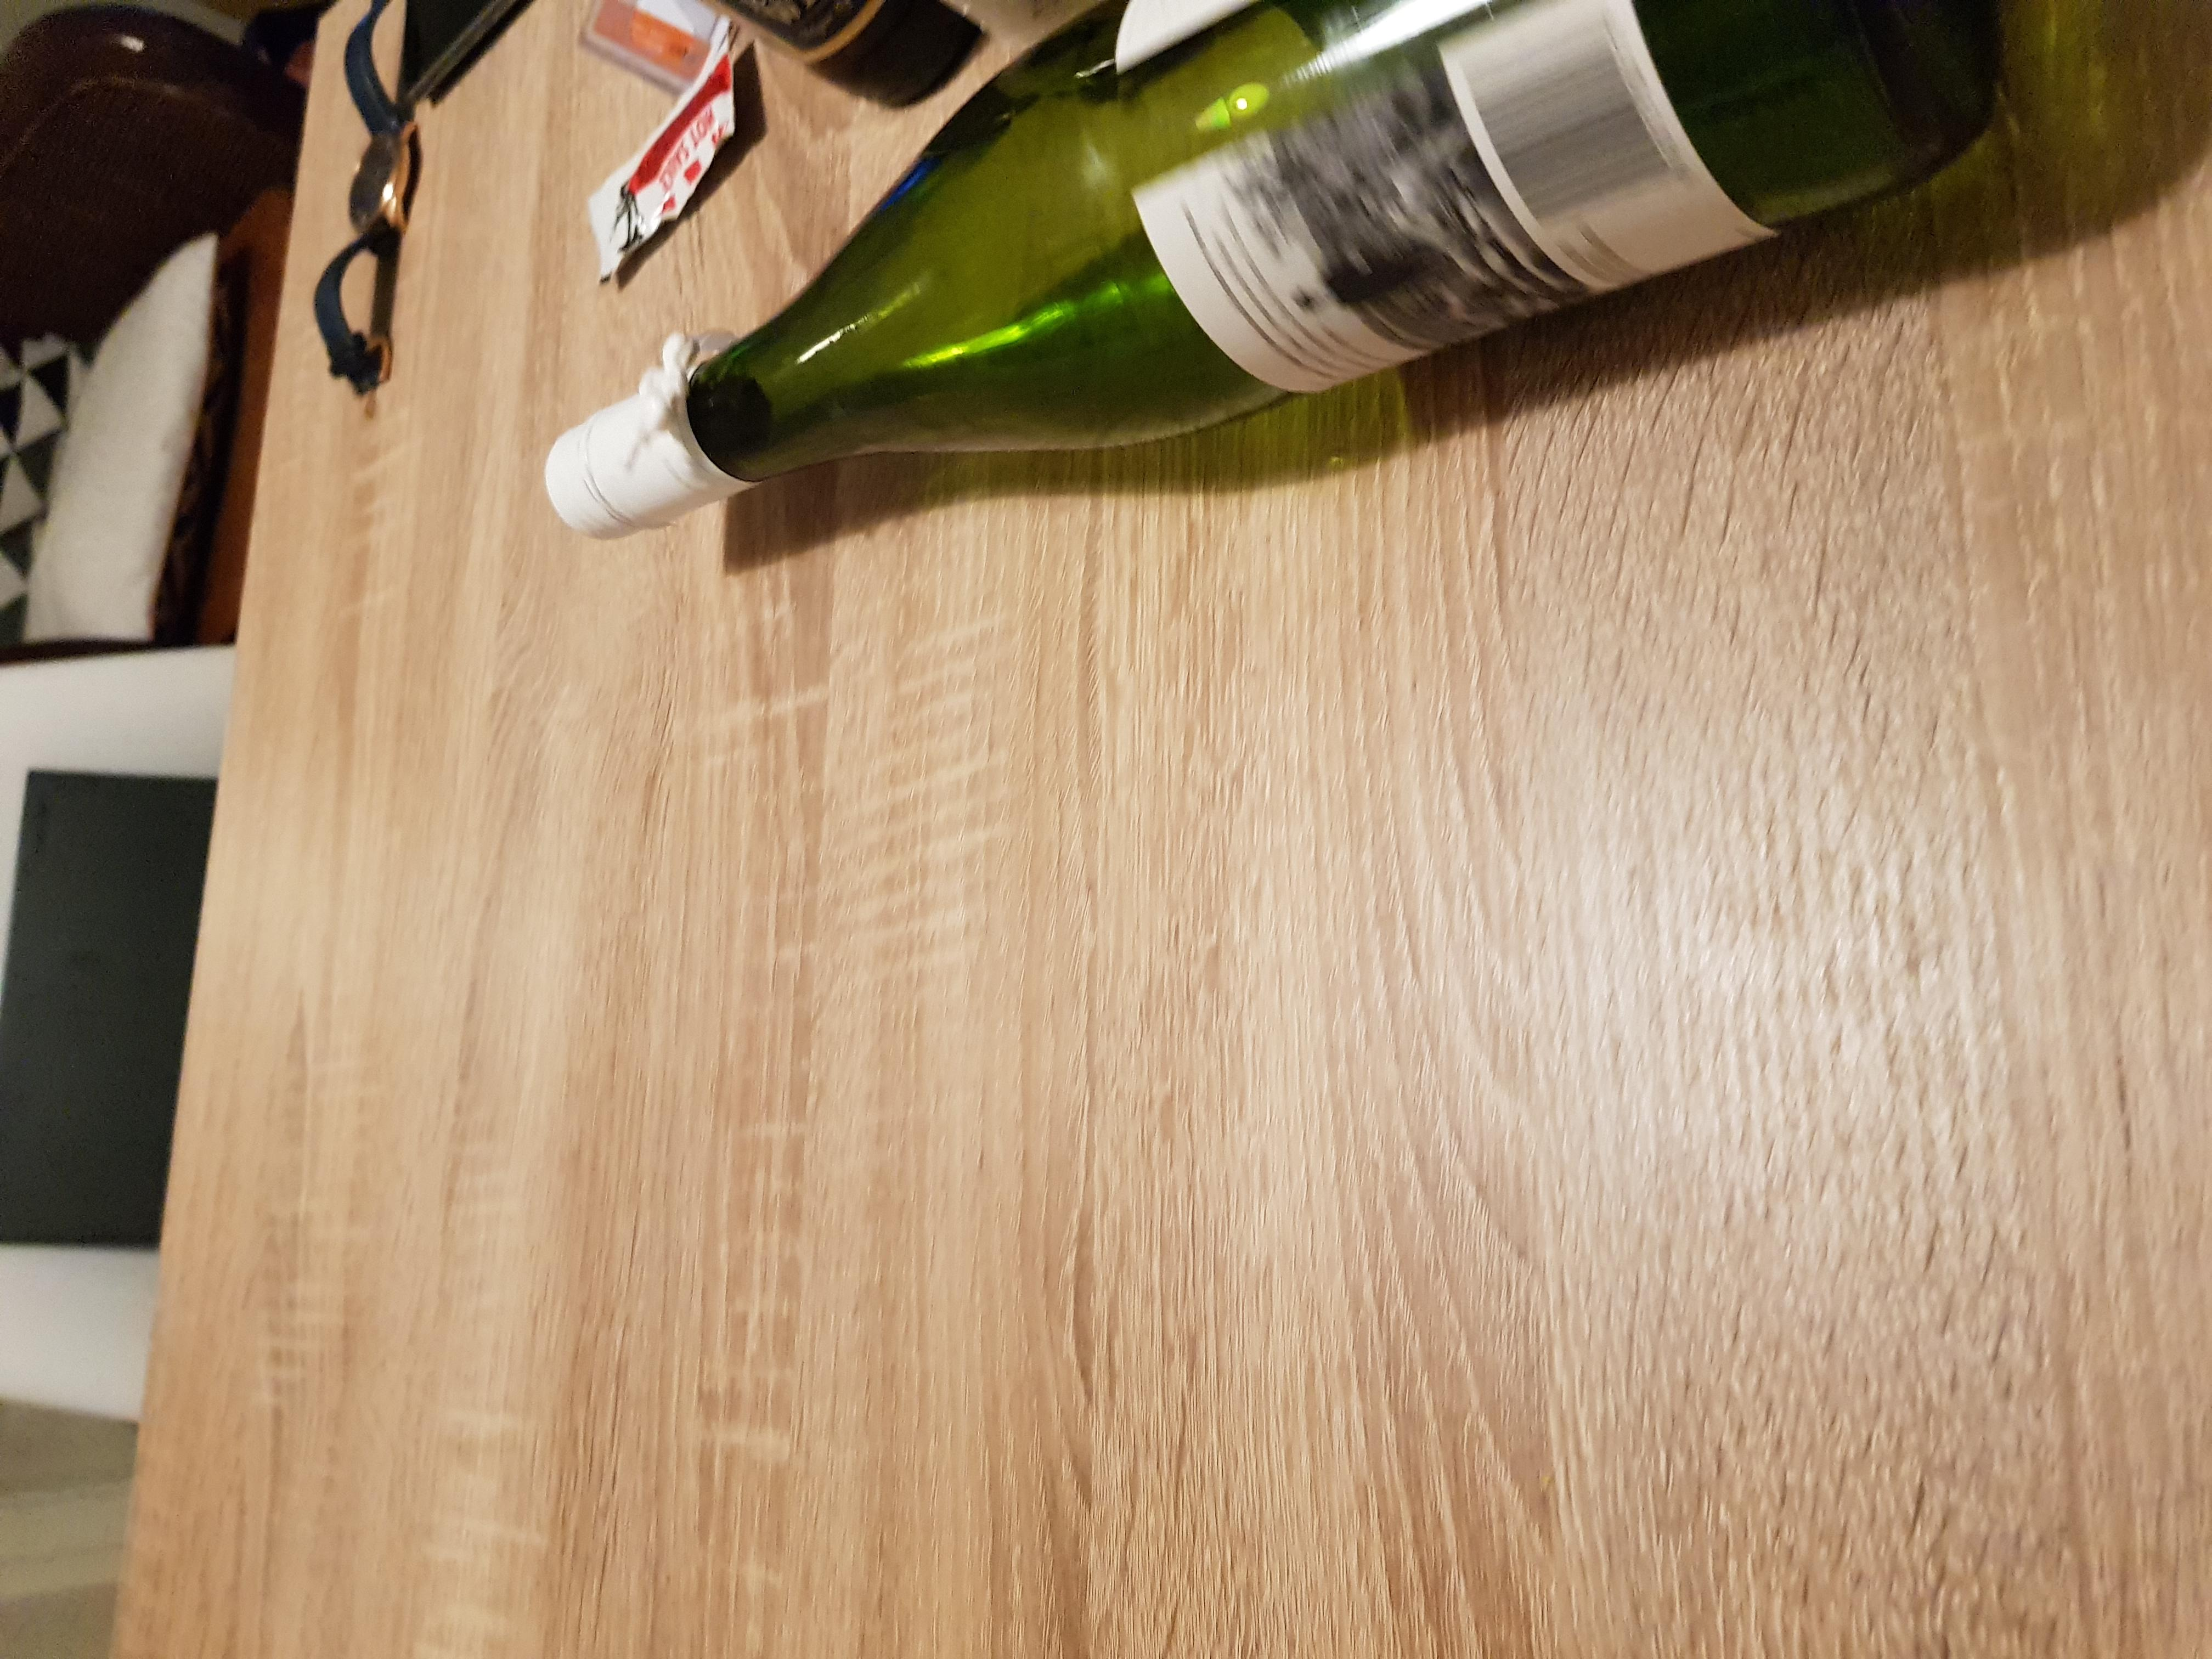Bottle: (538, 0, 2003, 538)
